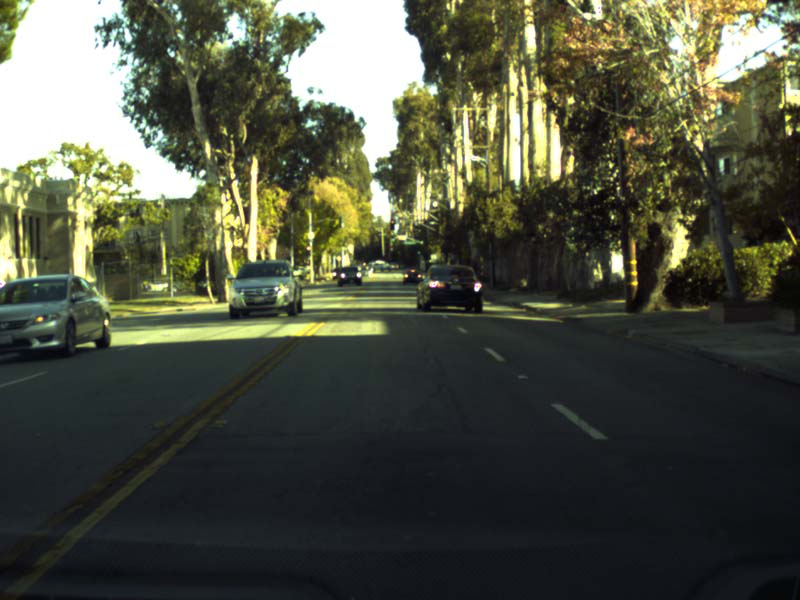Green: (416, 245, 420, 254)
Red: (390, 219, 394, 229)
